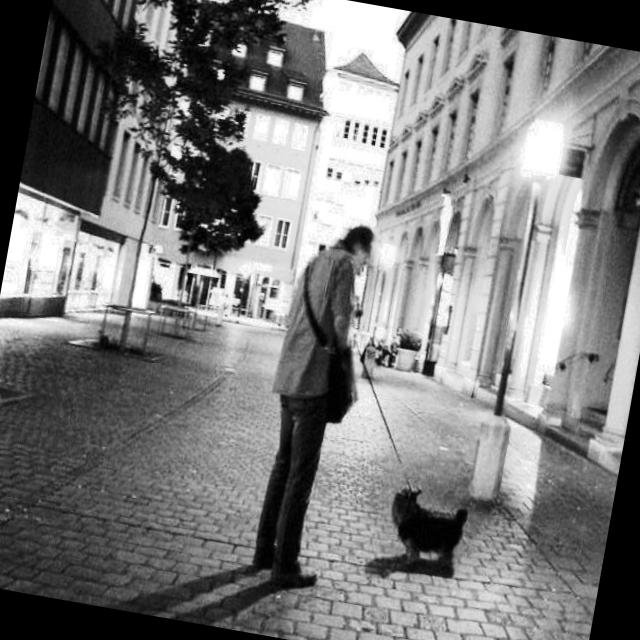Dog: (356, 462, 495, 611)
